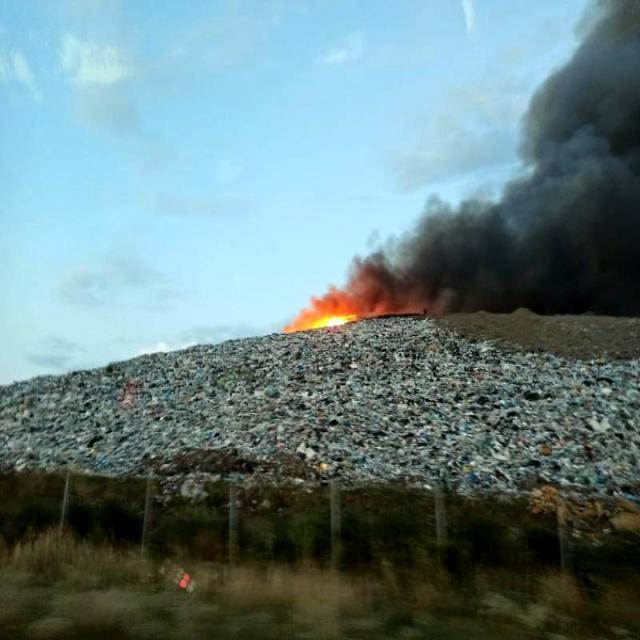Fire: (294, 292, 368, 332)
Smoke: (370, 13, 640, 326)
